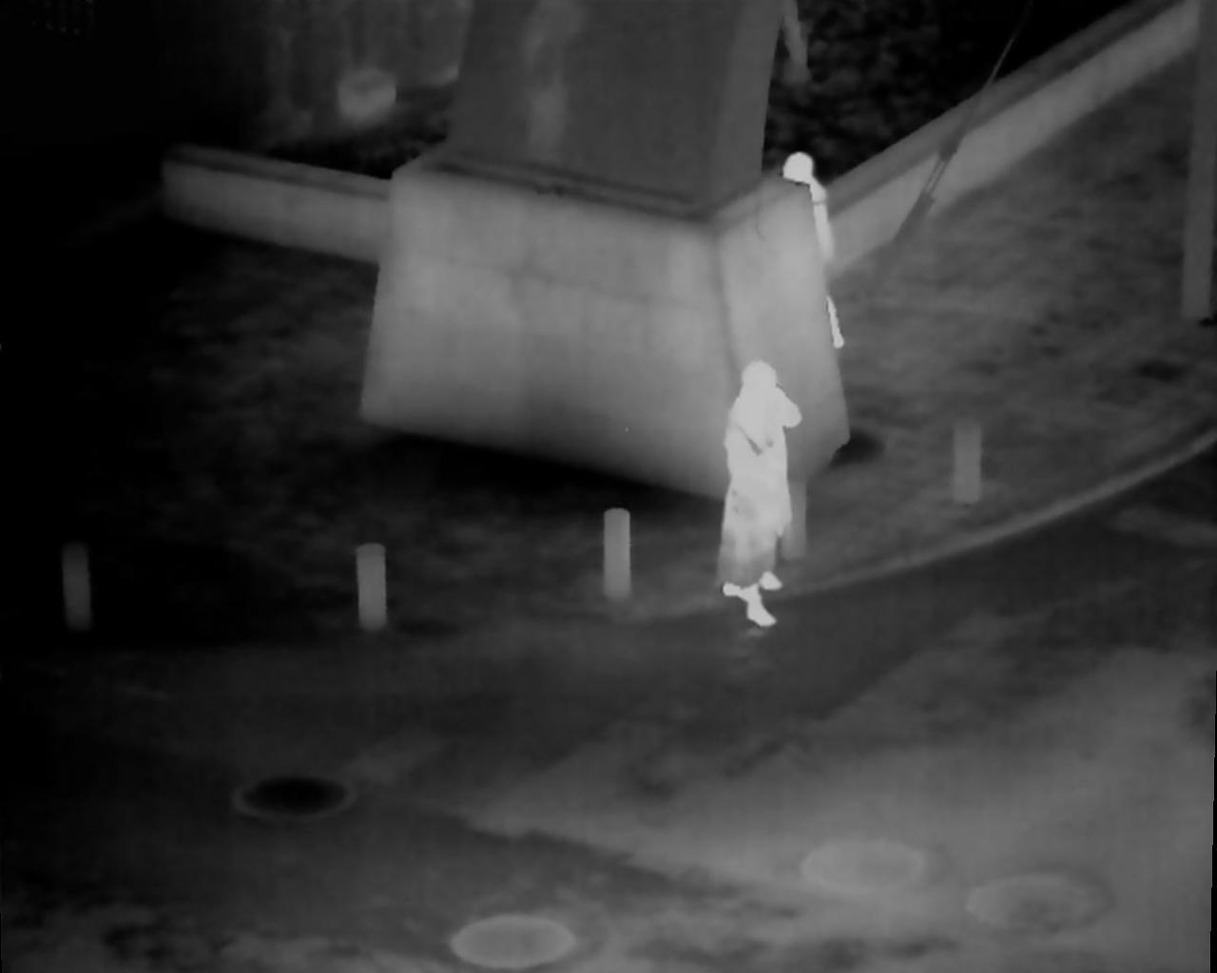person: (727, 361, 801, 639), (782, 155, 846, 351)
